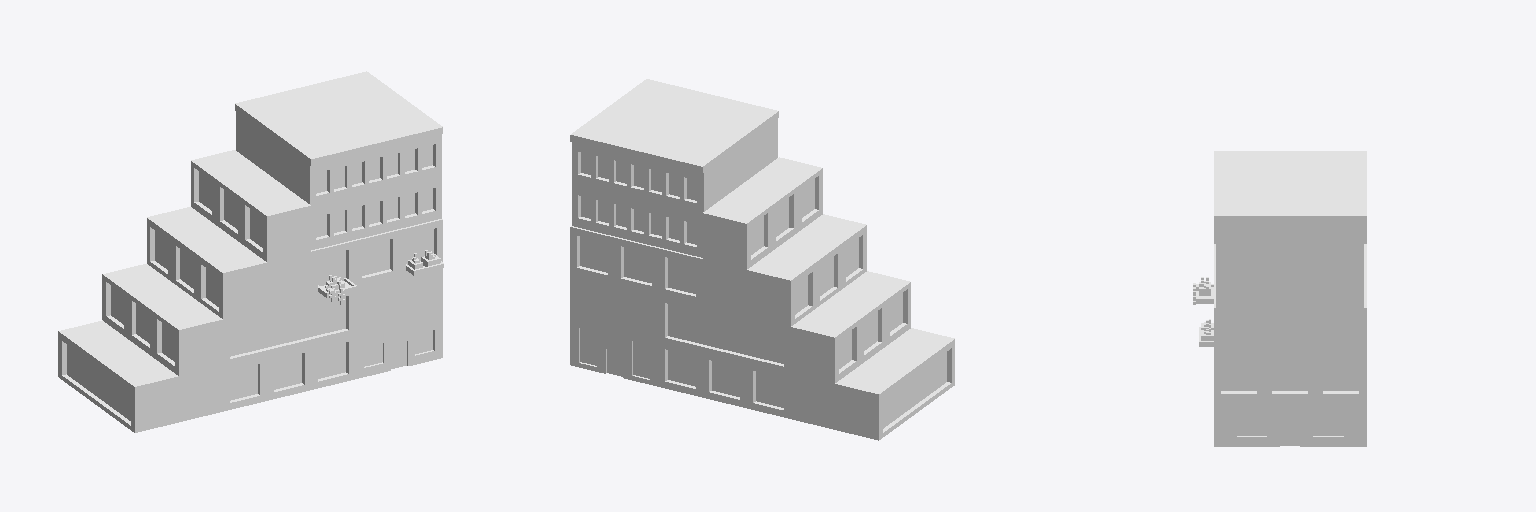
File: Buildings_01-3.obj
The picture shows the model from 3 angles: view 1: azimuth 30°, elevation 25°; view 2: azimuth 150°, elevation 25°; view 3: azimuth 270°, elevation 25°; orthographic projection.
Parts seen in each view (by area): view 1: object 1; view 2: object 1; view 3: object 1.
Part boxes in pixels (x1,y1,x2,y2): object 1: (58, 71, 443, 432); object 1: (570, 79, 954, 440); object 1: (1193, 151, 1366, 446).
Bounding box in the file's own units: 14 × 10 × 6.8.